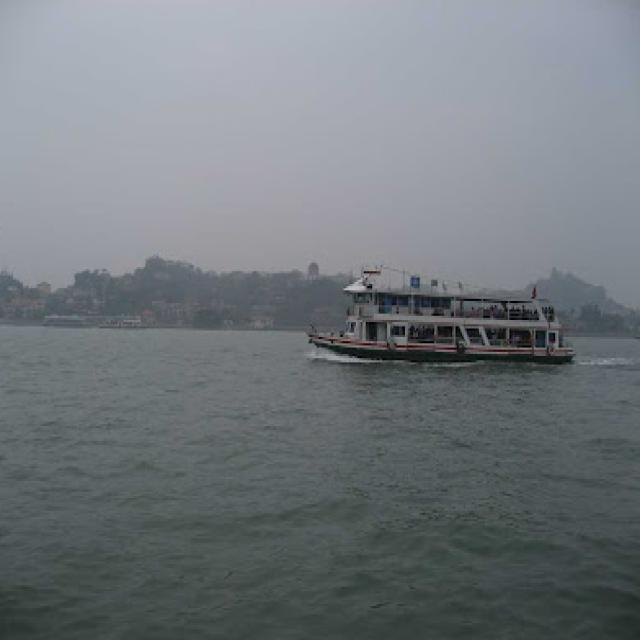passenger ship: (310, 255, 568, 376)
